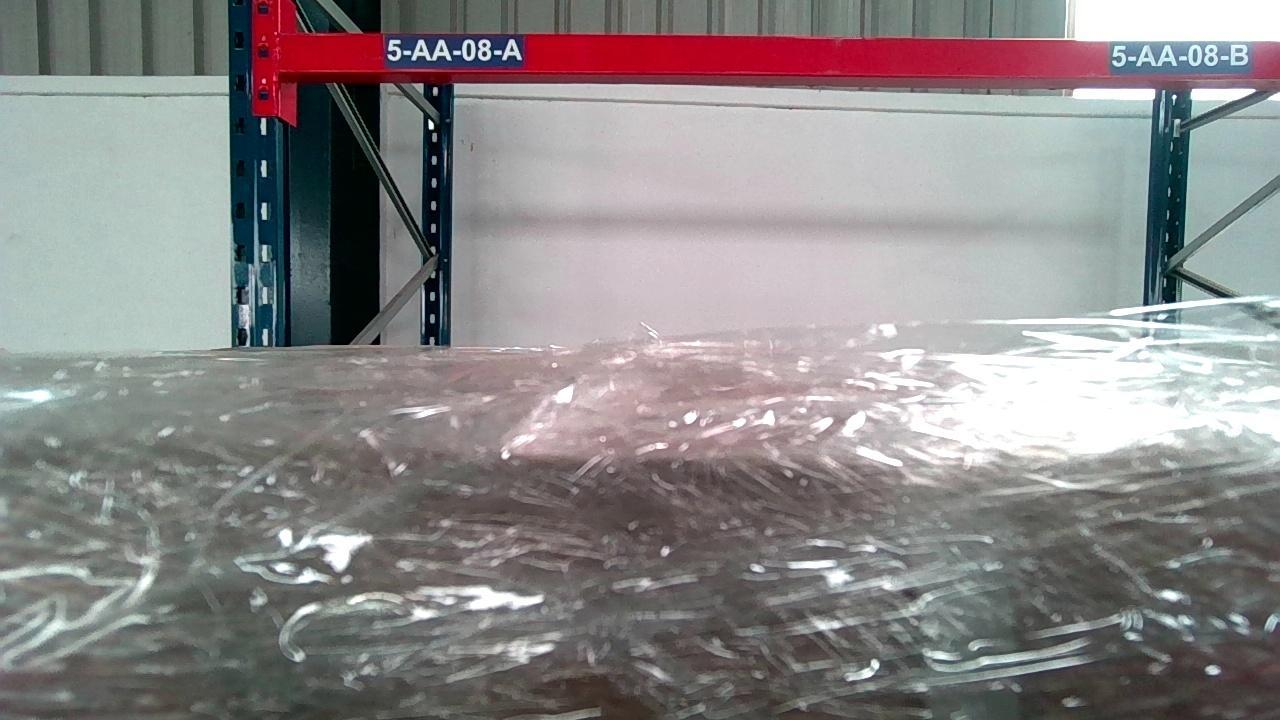h_rack: (286, 36, 1276, 75)
